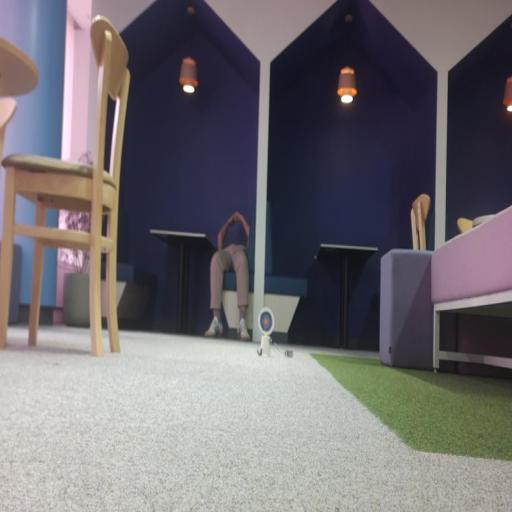target: (258, 307, 274, 335)
